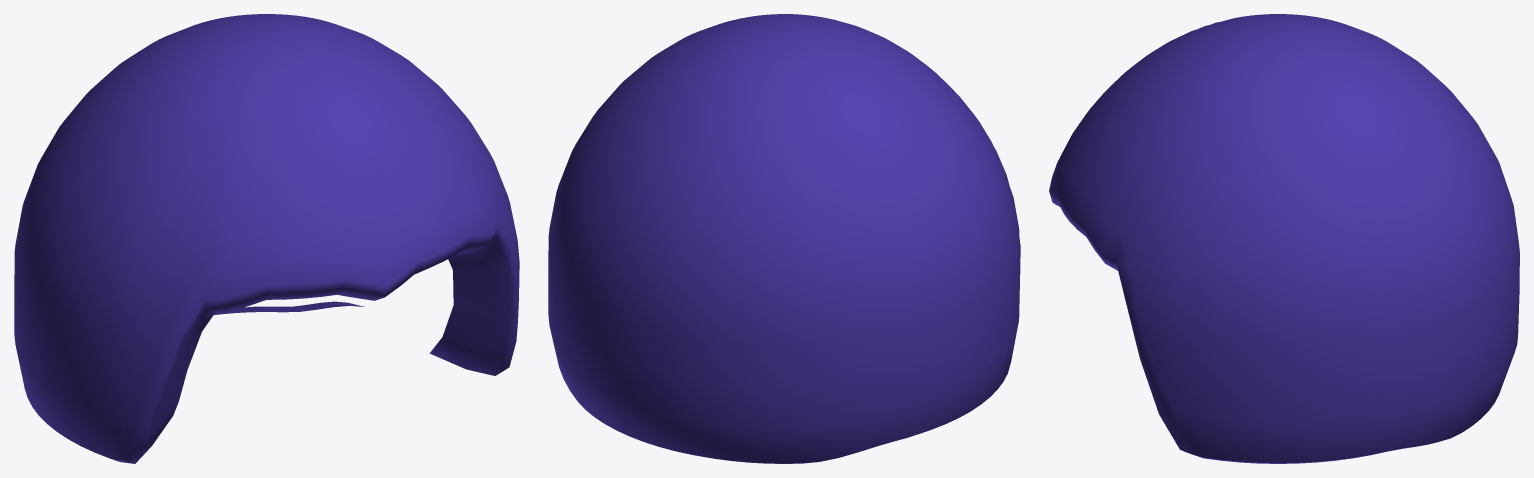
The model's file is hair-bob.glb.
The picture shows the model from 3 angles, left to right: view 1: azimuth 30°, elevation 25°; view 2: azimuth 150°, elevation 25°; view 3: azimuth 270°, elevation 25°; orthographic projection. The views are drawn at different scales.
Parts seen in each view (by area): view 1: hair-bob-mesh; view 2: hair-bob-mesh; view 3: hair-bob-mesh.
Boxes of the visible parts, x1,y1,x2,y2 form: hair-bob-mesh: [14, 14, 519, 463]; hair-bob-mesh: [548, 14, 1020, 463]; hair-bob-mesh: [1049, 14, 1519, 463].
Size of the model in its own units: 2.23 by 1.79 by 2.18.
